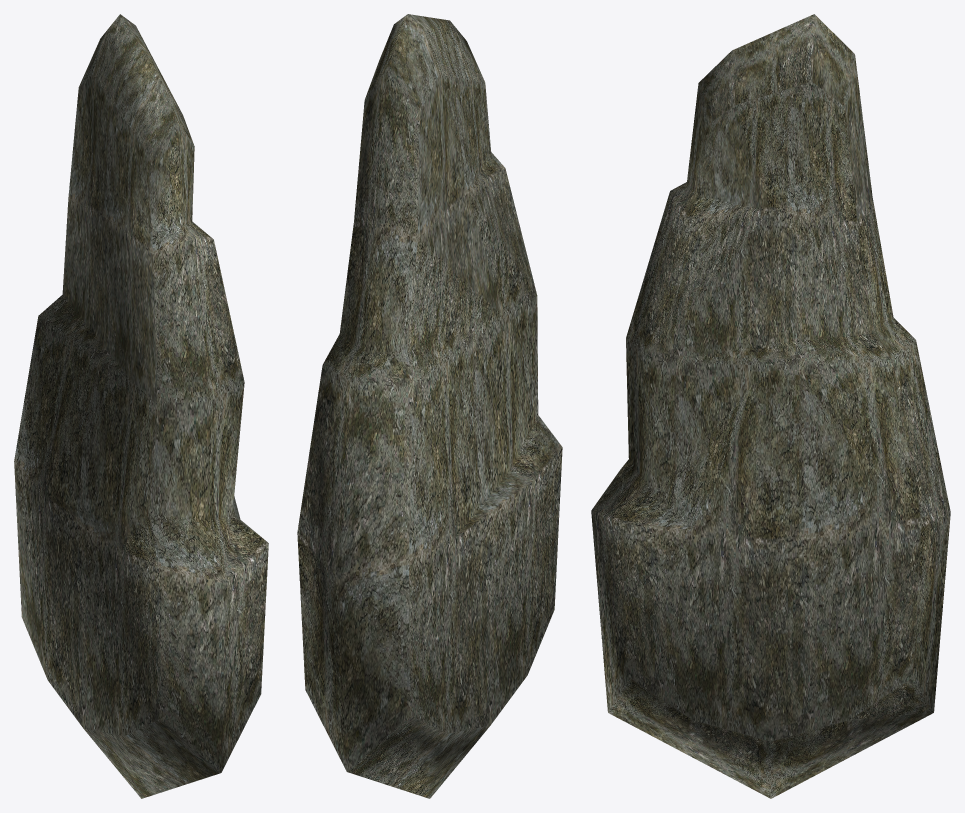
Rendered from rock_dant_a1_l1.fbx.
The picture shows the model from 3 angles, left to right: view 1: azimuth 30°, elevation 25°; view 2: azimuth 150°, elevation 25°; view 3: azimuth 270°, elevation 25°; orthographic projection. The views are drawn at different scales.
Visible parts, largest first — view 1: mesh_node; view 2: mesh_node; view 3: mesh_node.
Boxes of the visible parts, box(x1,y1,x2,y2) form: mesh_node: box(14, 14, 268, 798); mesh_node: box(297, 14, 562, 798); mesh_node: box(591, 14, 950, 798).
Bounding box in the file's own units: 0.9606 × 5.66 × 2.35.
Materials: 1 (1 with a texture image).
